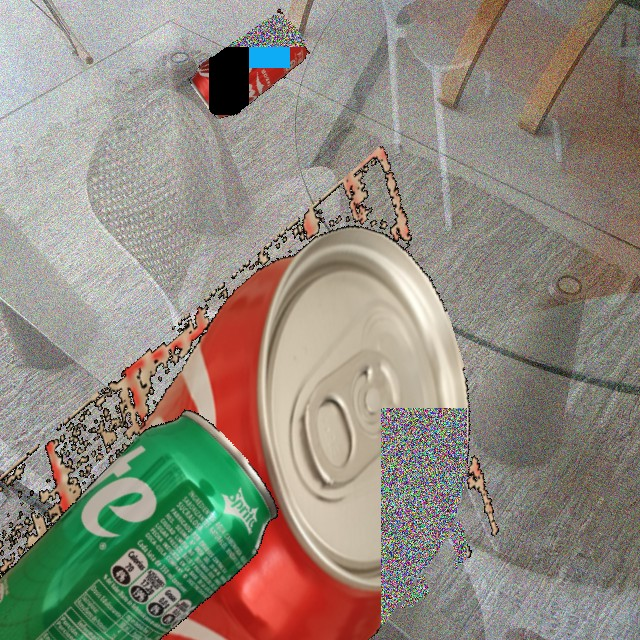coca cola: (0, 137, 640, 640), (185, 7, 315, 119)
sprite: (0, 390, 315, 640)
